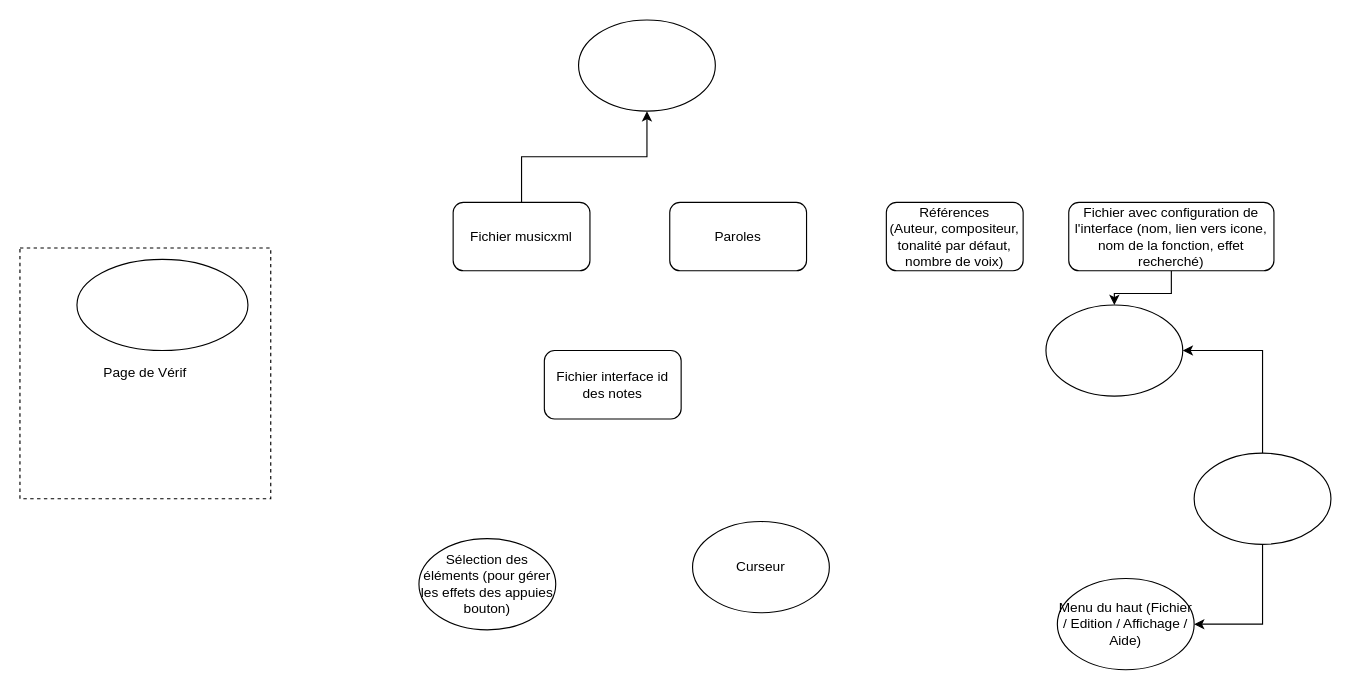
Some shapes in this 1351 by 690 pixel diagram are drawn without their labels. The shapes that lost their labels are listed below. From the top down, each one's centre as x and y in pixels, then its label:
the point at 646,65: Afficher
the point at 162,304: Vérification du fichiier (nom des accords cohérent / données inutilisées)
the point at 1114,350: Boutons modifications
the point at 1262,498: Interface
